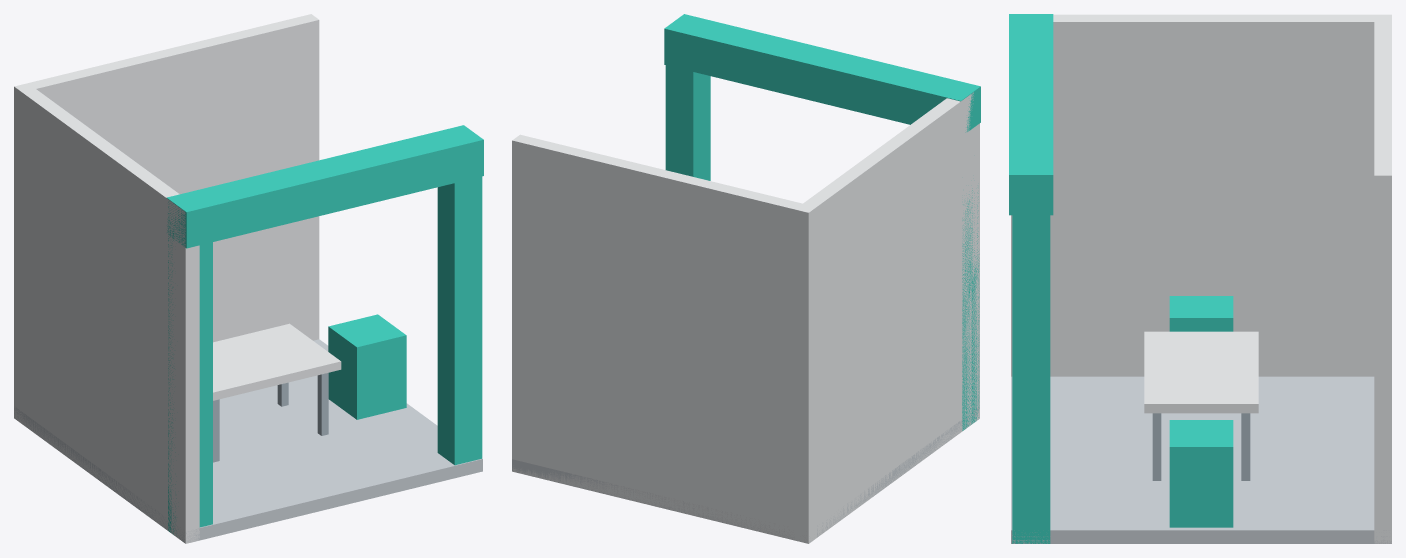
3 views of the same model, side by side, from view 1: azimuth 30°, elevation 25°; view 2: azimuth 150°, elevation 25°; view 3: azimuth 270°, elevation 25° (orthographic). The views are drawn at different scales.
Parts seen in each view (by area): view 1: Exhibition Booth Concept; view 2: Exhibition Booth Concept; view 3: Exhibition Booth Concept.
Part boxes in pixels (x1,y1,x2,y2): Exhibition Booth Concept: [14, 14, 483, 543]; Exhibition Booth Concept: [512, 14, 980, 543]; Exhibition Booth Concept: [1009, 14, 1391, 543].
Size of the model in its own units: 3 by 3.2 by 3.01.
